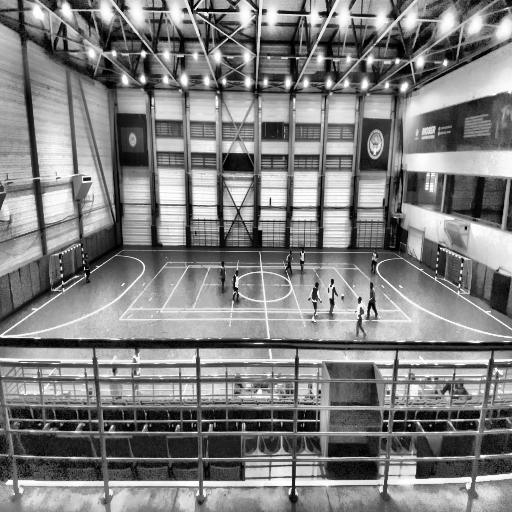ball: (340, 293, 344, 300)
player: (308, 280, 322, 325), (354, 296, 367, 340), (366, 281, 378, 322), (327, 277, 338, 318), (219, 259, 227, 295), (83, 253, 92, 285), (232, 269, 240, 304), (284, 249, 294, 276), (370, 247, 379, 276), (299, 246, 306, 274)
